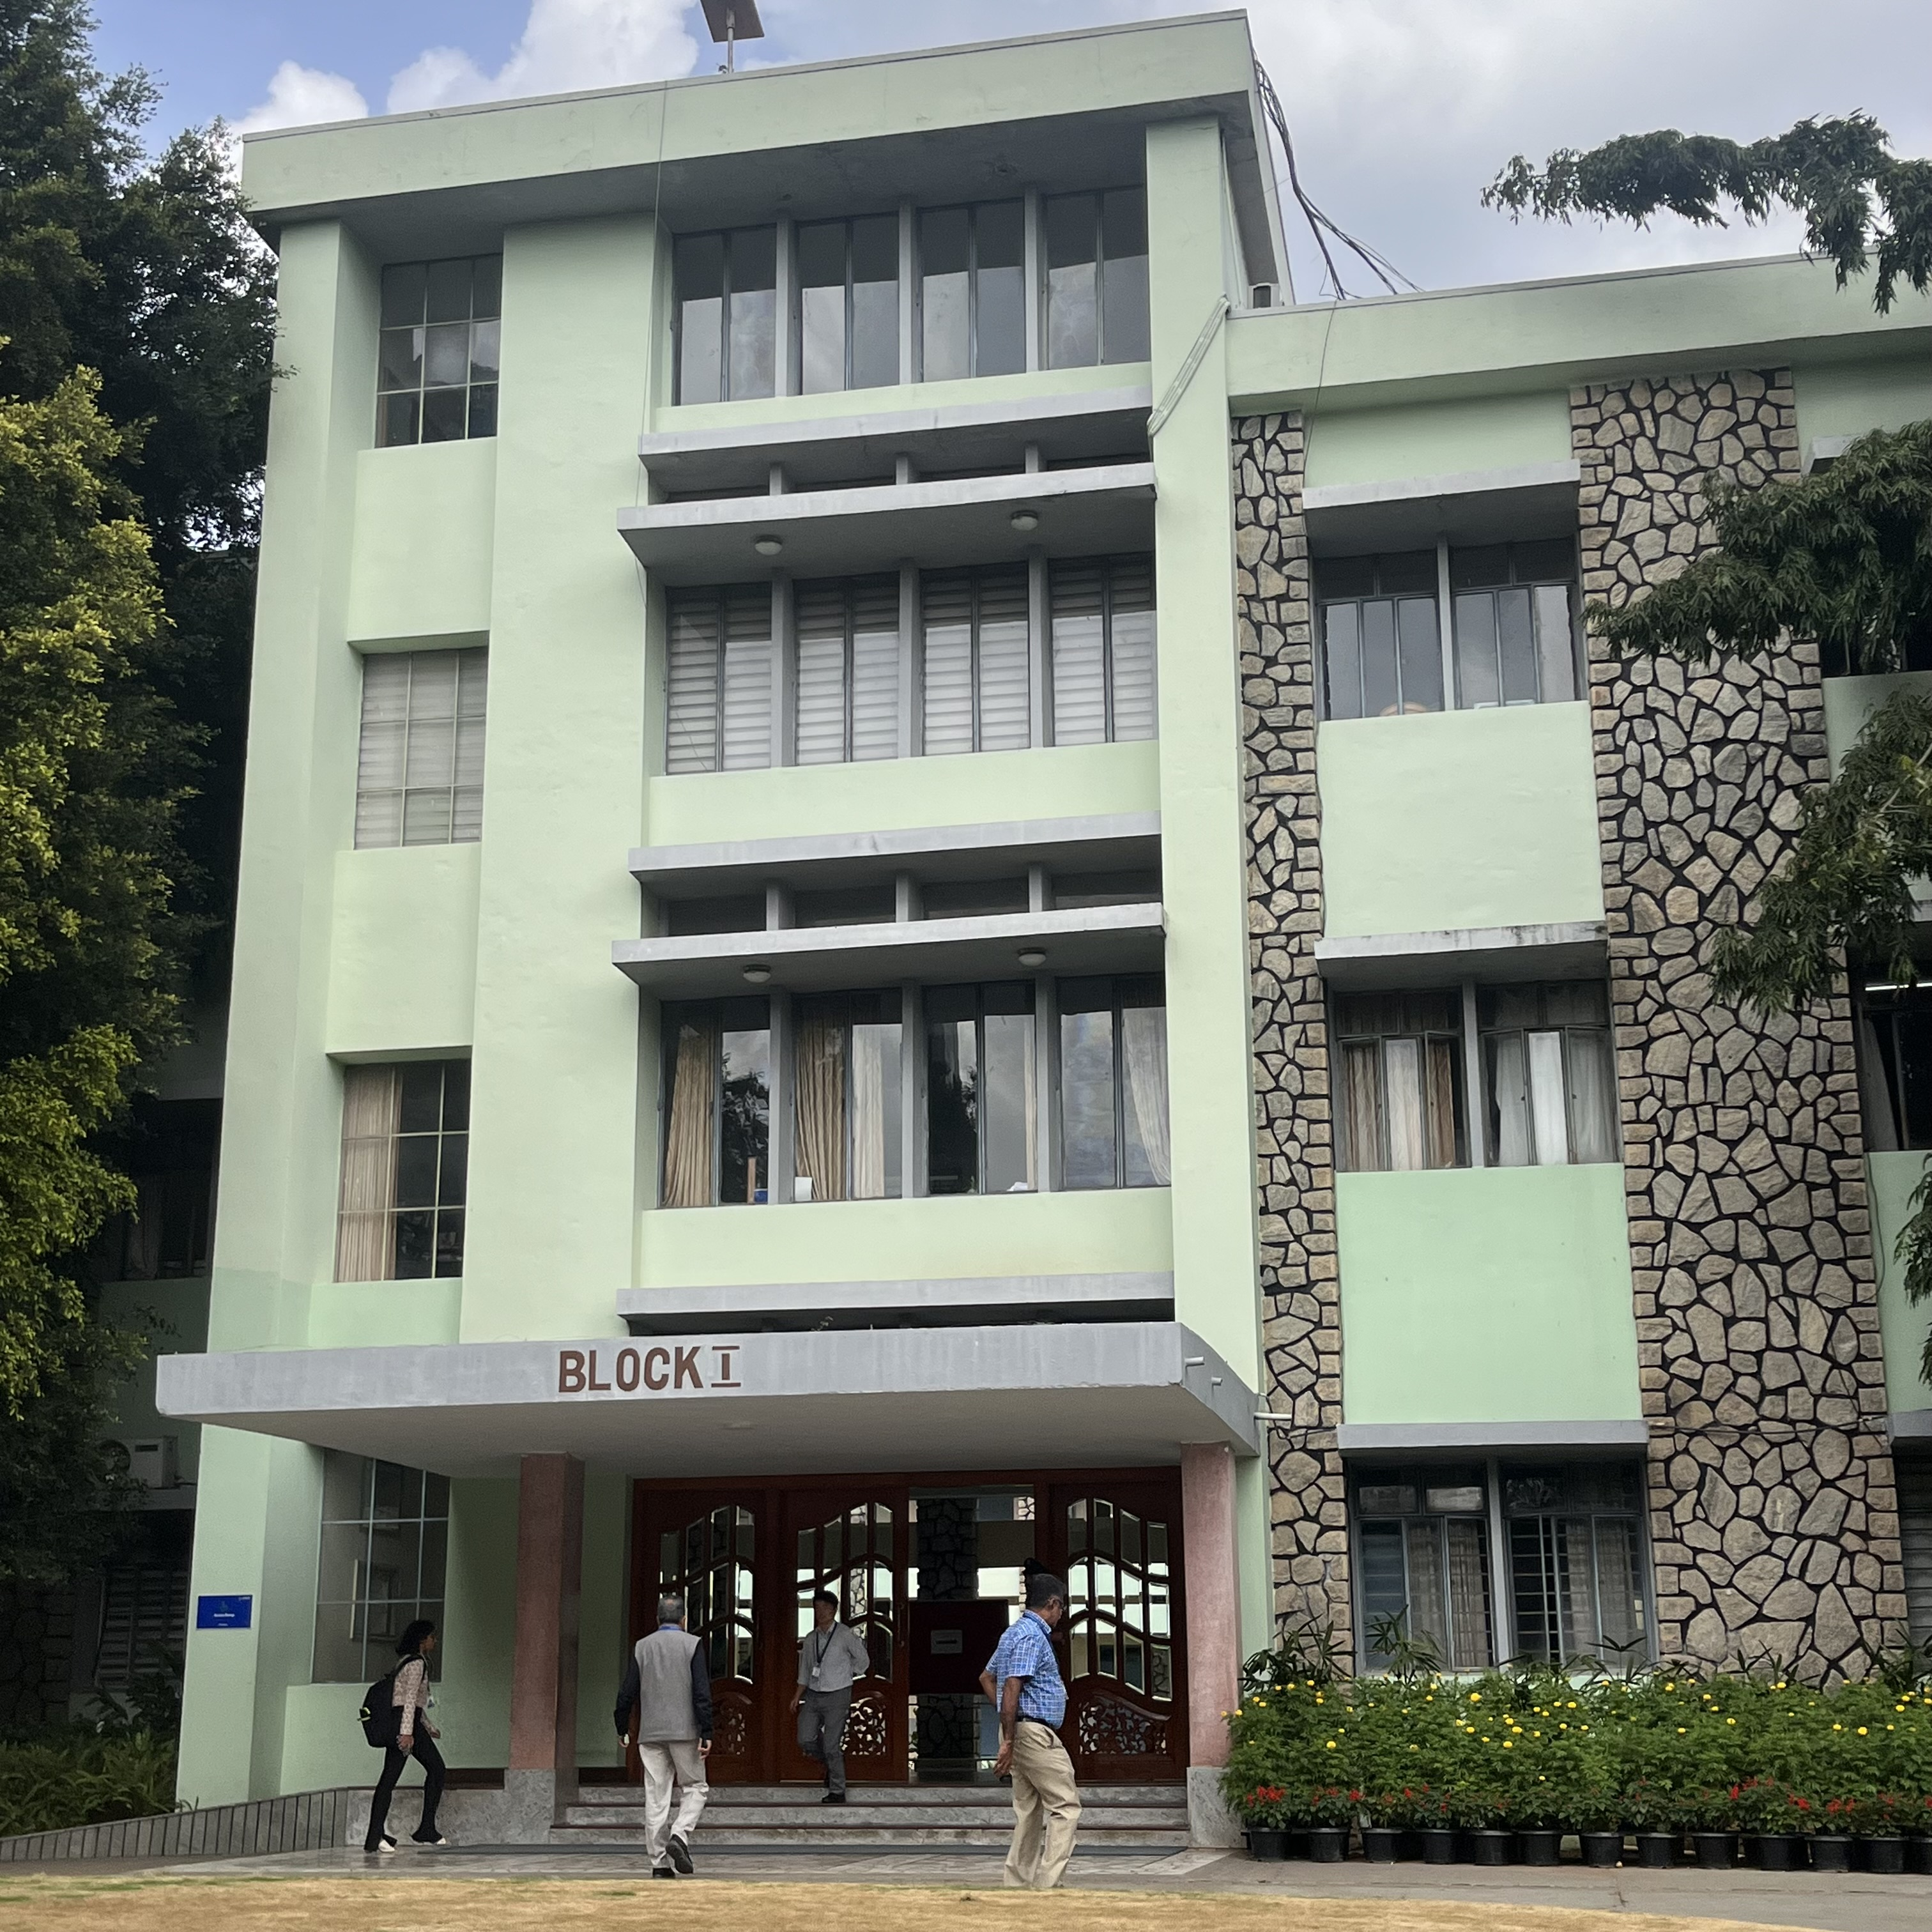Block 1: (209, 83, 1897, 1723)
